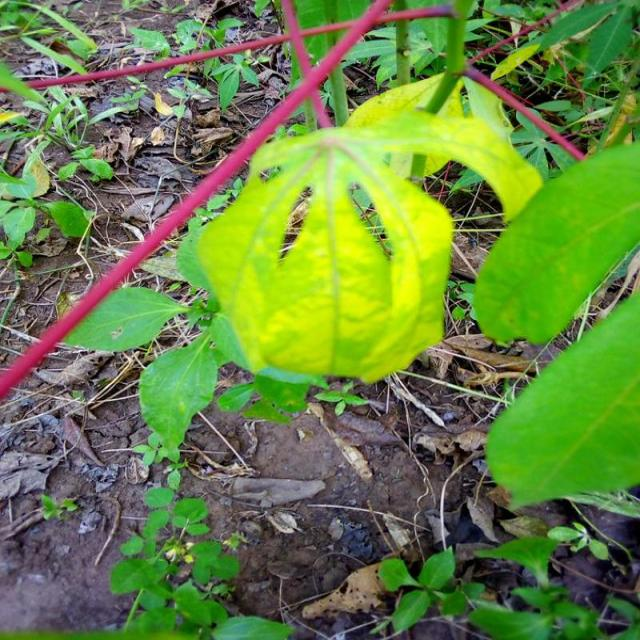cassava leaf: (195, 124, 455, 387), (472, 138, 638, 346), (484, 289, 638, 512), (54, 282, 189, 352)
